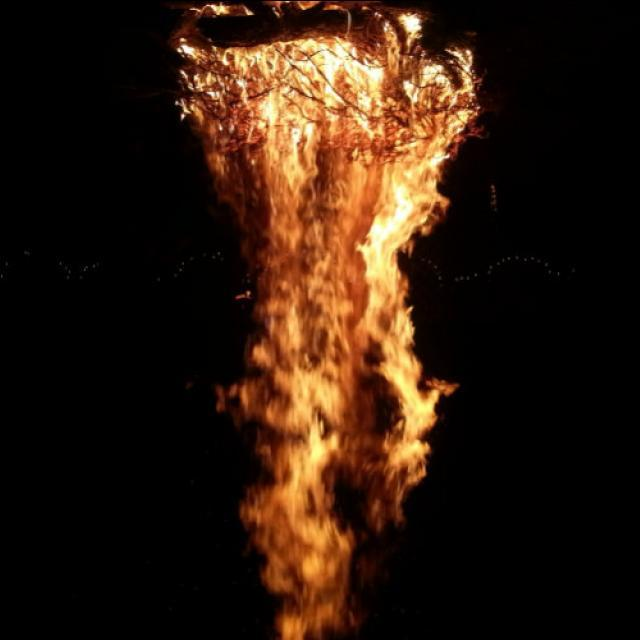Fire: (165, 14, 480, 624)
